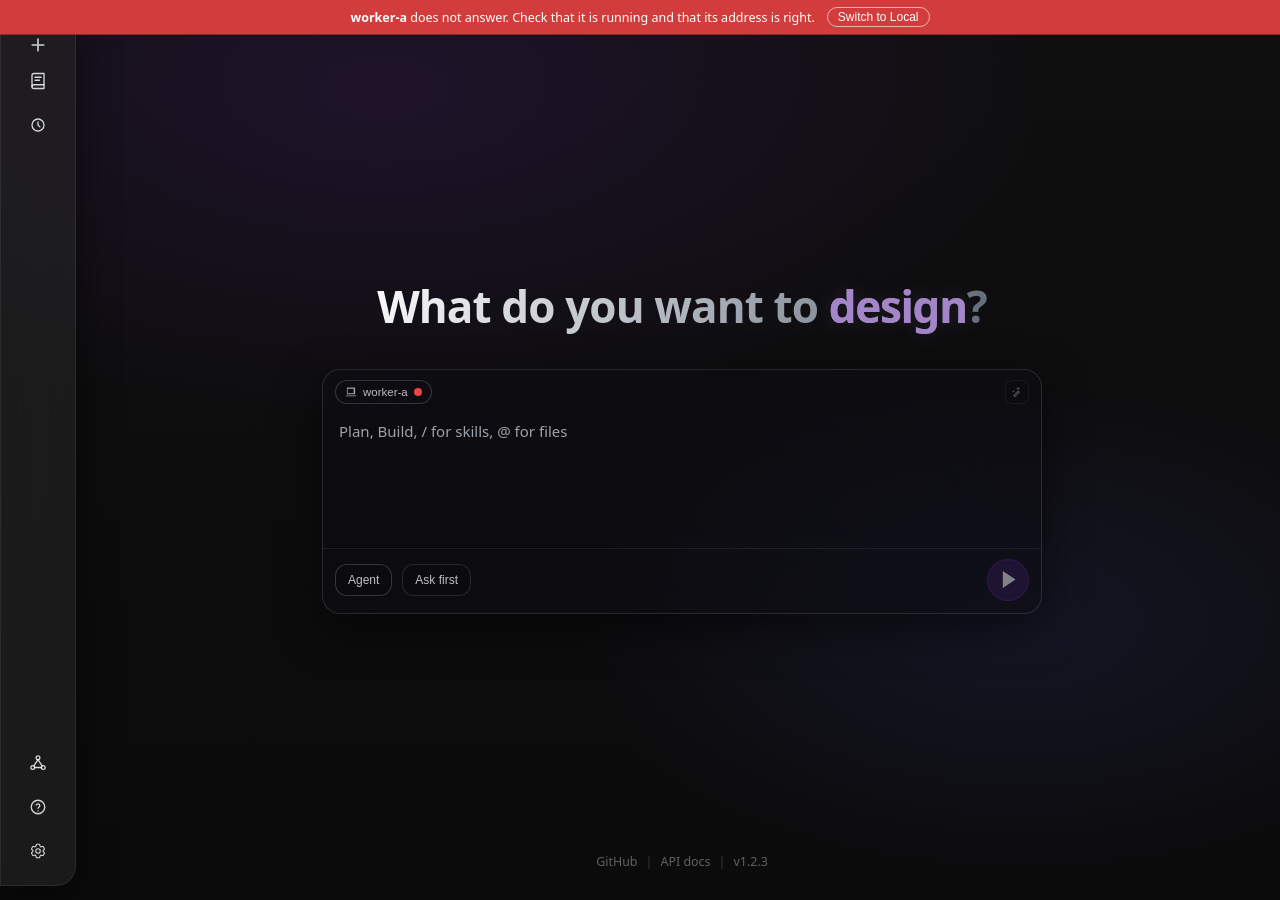
it: Scheduler opened from the rail over the map takes its place
Click the link with test id "nav-swarm": (38, 763) [29,754,47,772]
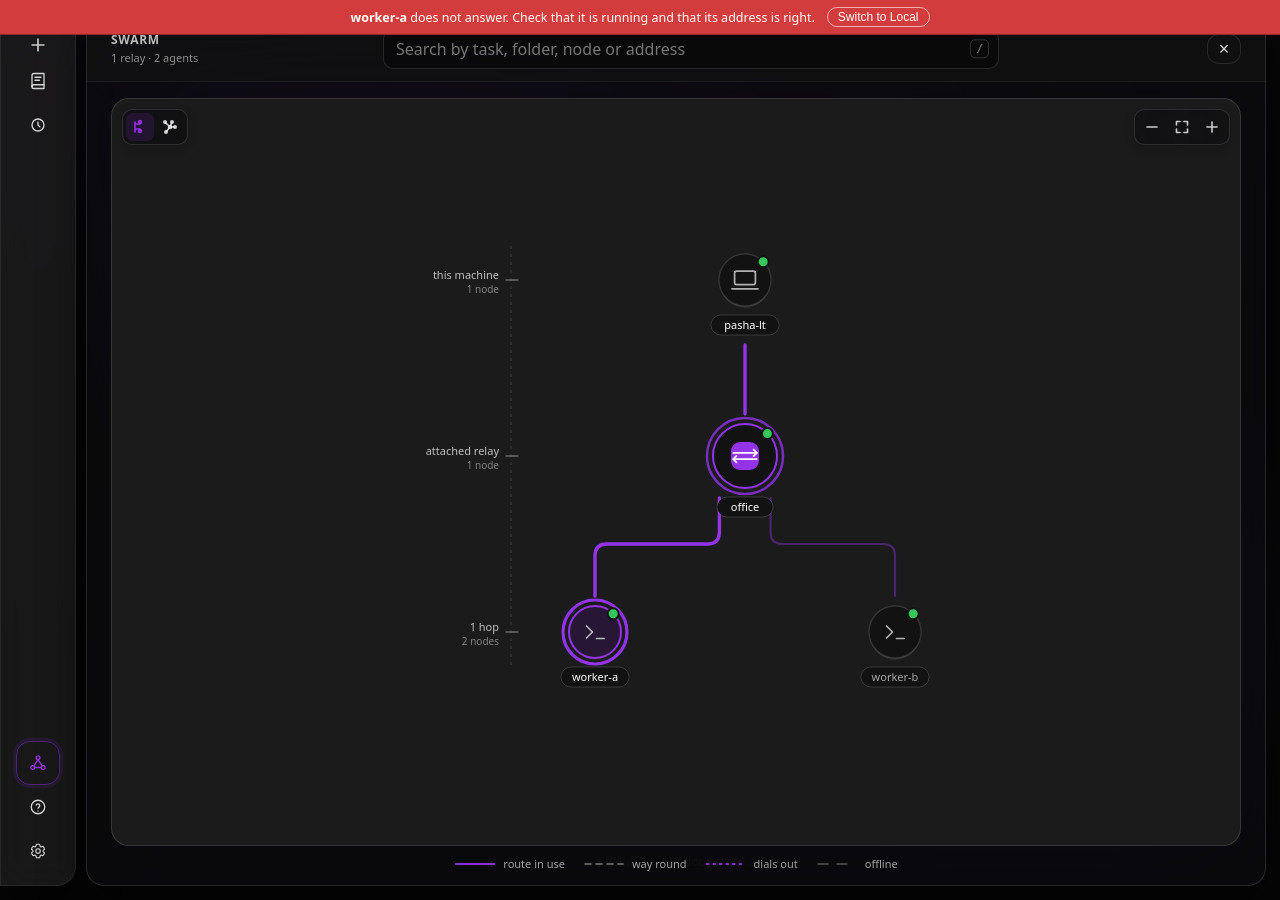
Result: the element with test id "swarm-view" is shown
Click the link with test id "nav-scheduler": (38, 125) [29,116,47,134]
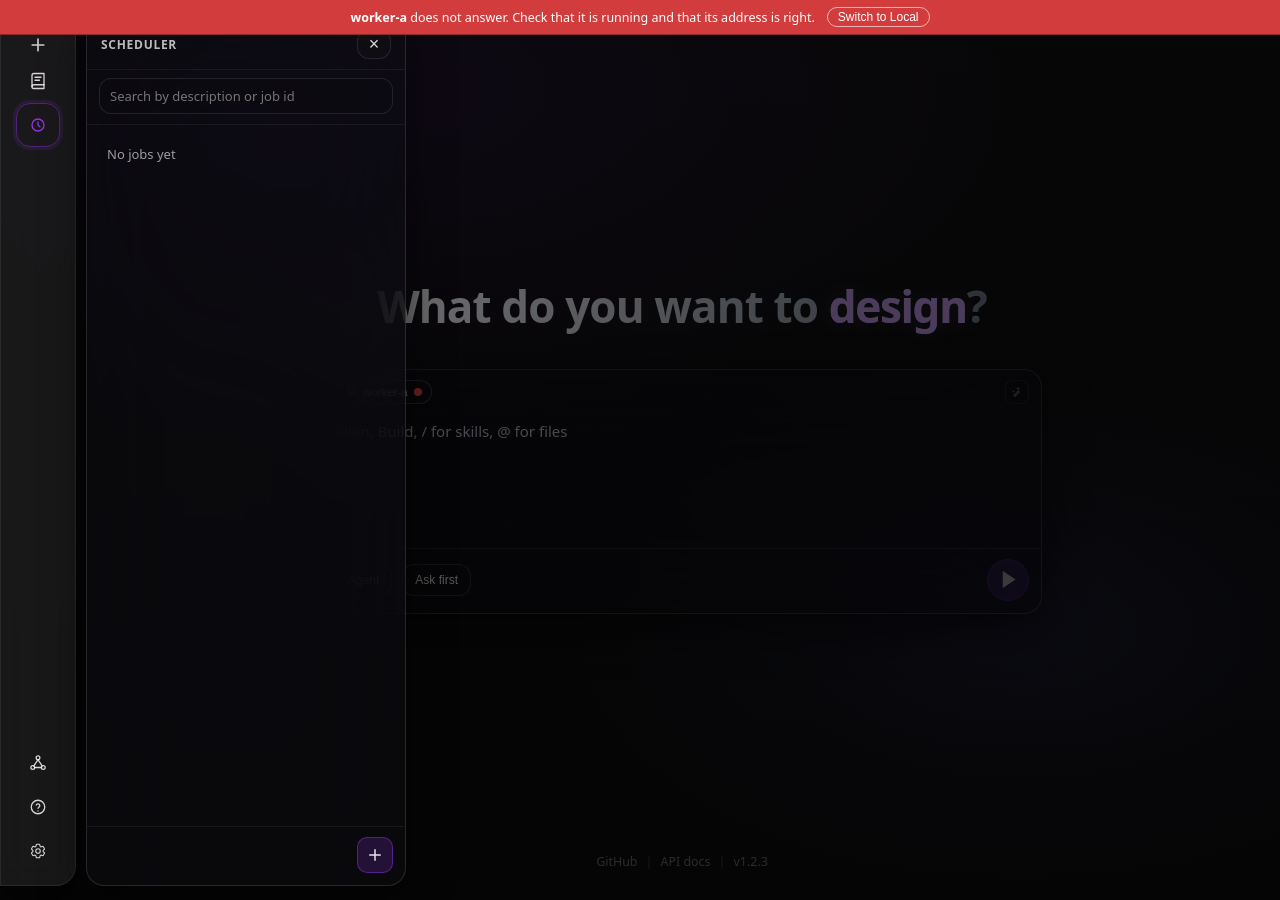
Result: the element with test id "swarm-view" is gone
